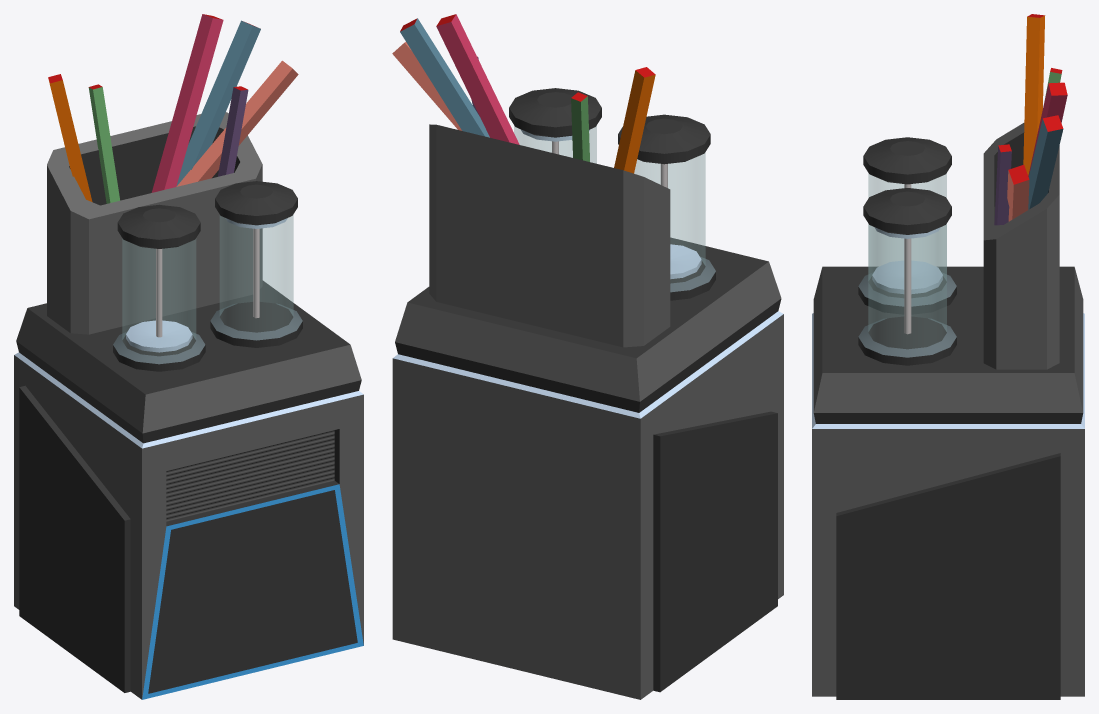
The model's file is Equipment_2_SciFi.fbx.
The picture shows the model from 3 angles, left to right: view 1: azimuth 30°, elevation 25°; view 2: azimuth 150°, elevation 25°; view 3: azimuth 270°, elevation 25°; orthographic projection. The views are drawn at different scales.
Visible parts, largest first — view 1: Equipment_2_SciFi, Equipment_Pump_1; view 2: Equipment_2_SciFi, Equipment_Pump_1; view 3: Equipment_2_SciFi, Equipment_Pump_1.
Boxes of the visible parts, x1,y1,x2,y2 form: Equipment_2_SciFi: (14,14,363,699); Equipment_Pump_1: (126,320,192,352); Equipment_2_SciFi: (392,14,783,699); Equipment_Pump_1: (670,244,701,279); Equipment_2_SciFi: (812,14,1084,699); Equipment_Pump_1: (872,260,942,293).
Size of the model in its own units: 108 by 224 by 93.33.
